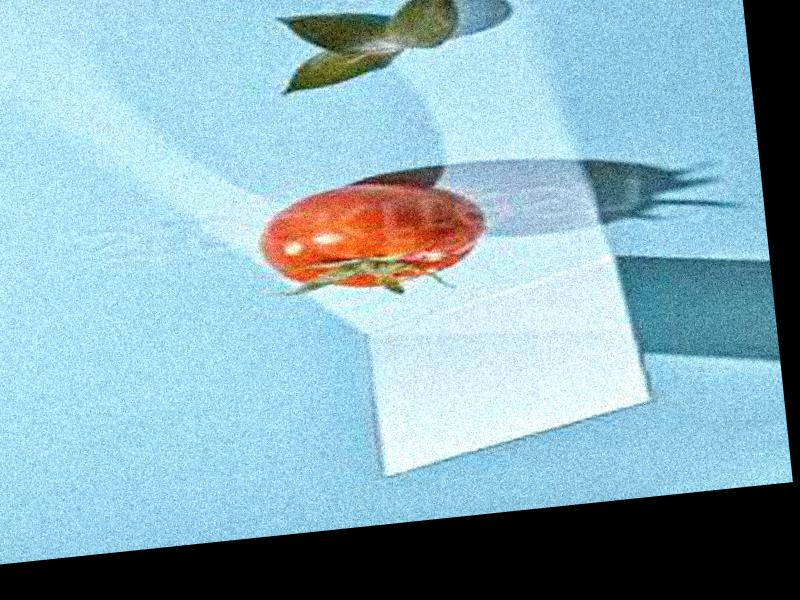Tomato: (249, 171, 490, 299)
